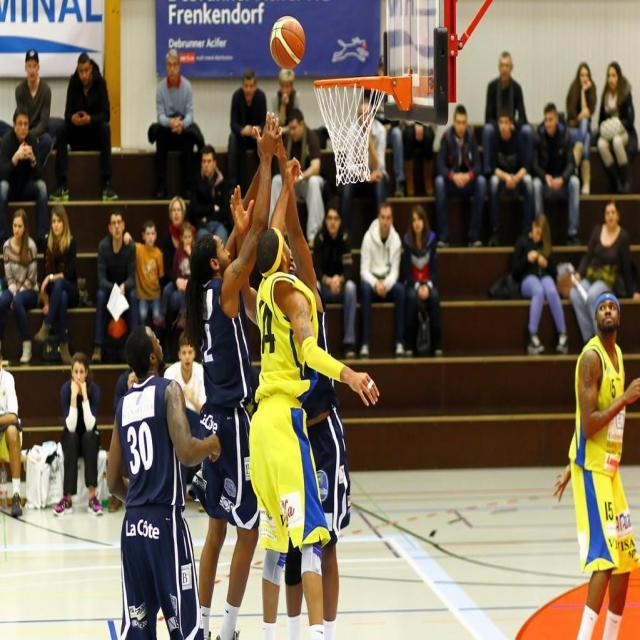rim: (272, 14, 304, 70)
